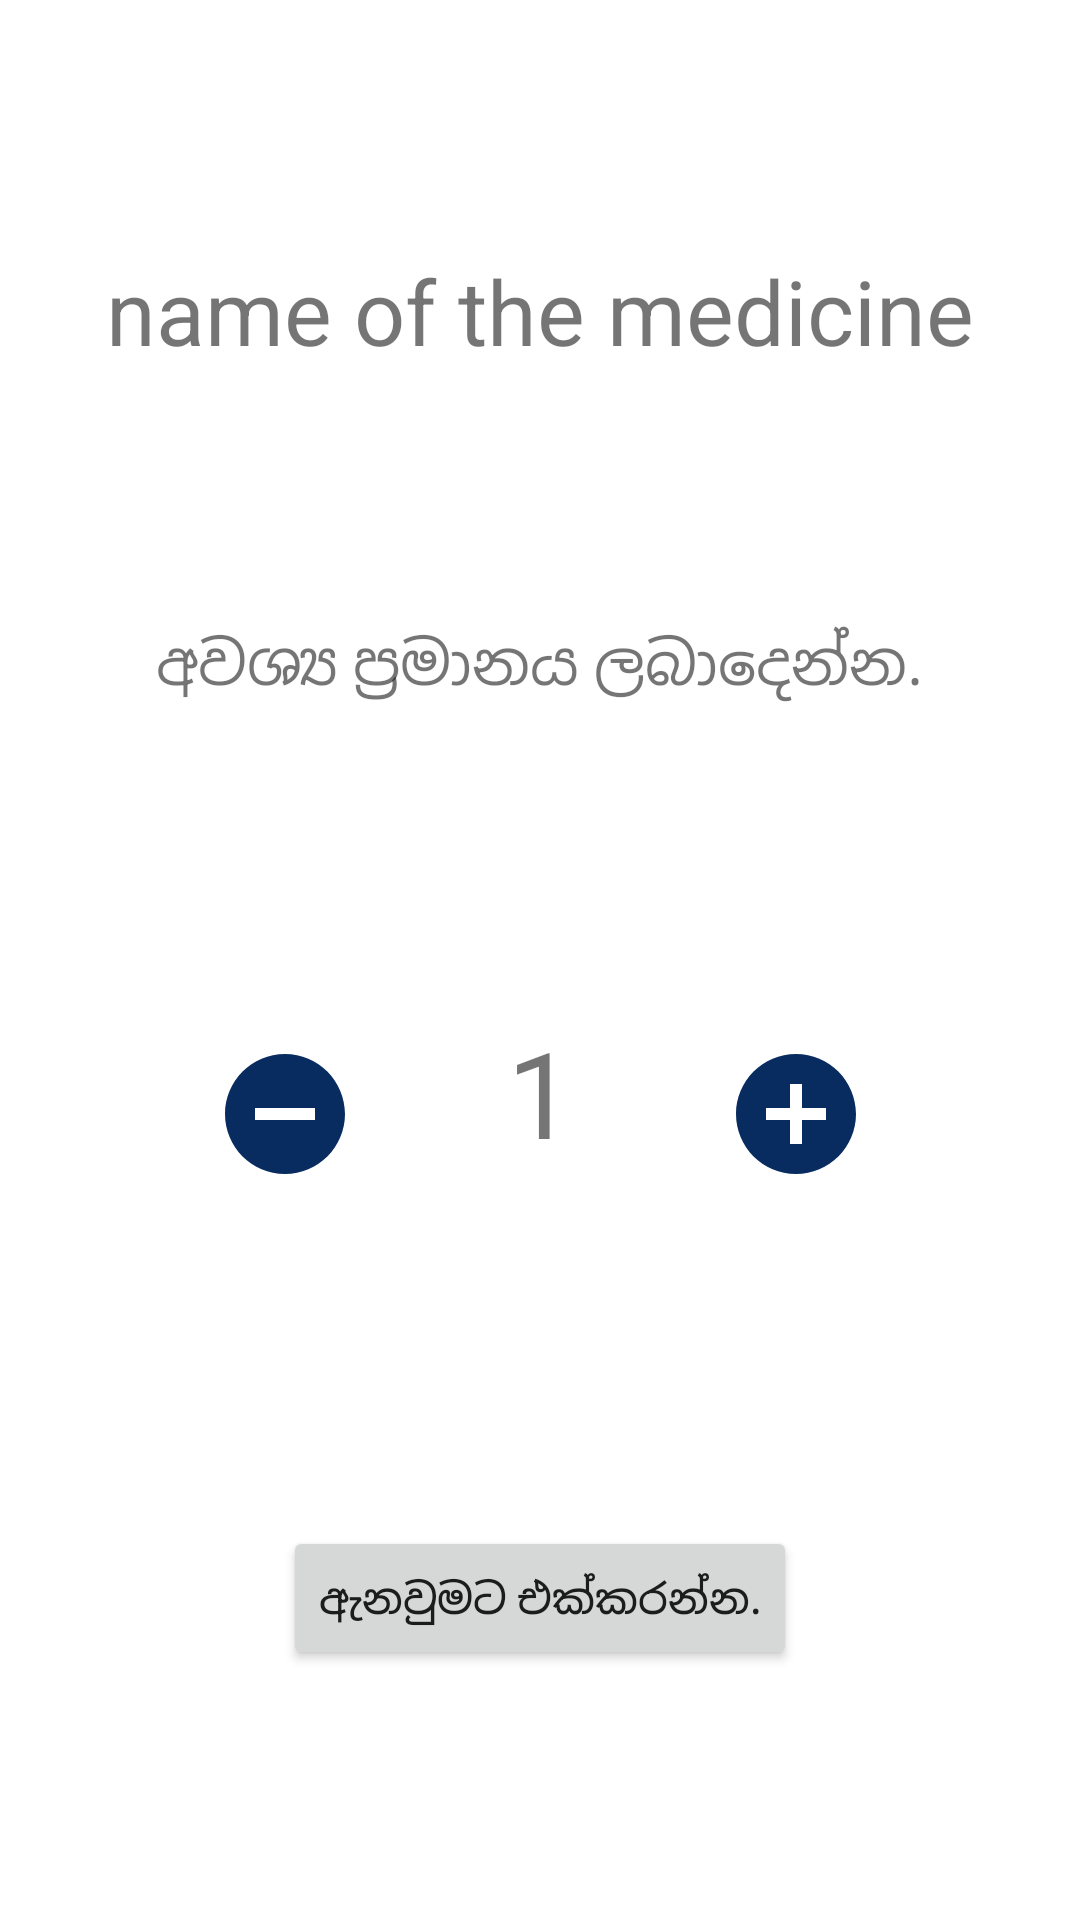

Screen size 1080px×1920px. Icon name, then its center in pixels as [x,y]:
decrease: [285,1114]
increase: [796,1114]
